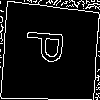P: (25, 28, 74, 65)
